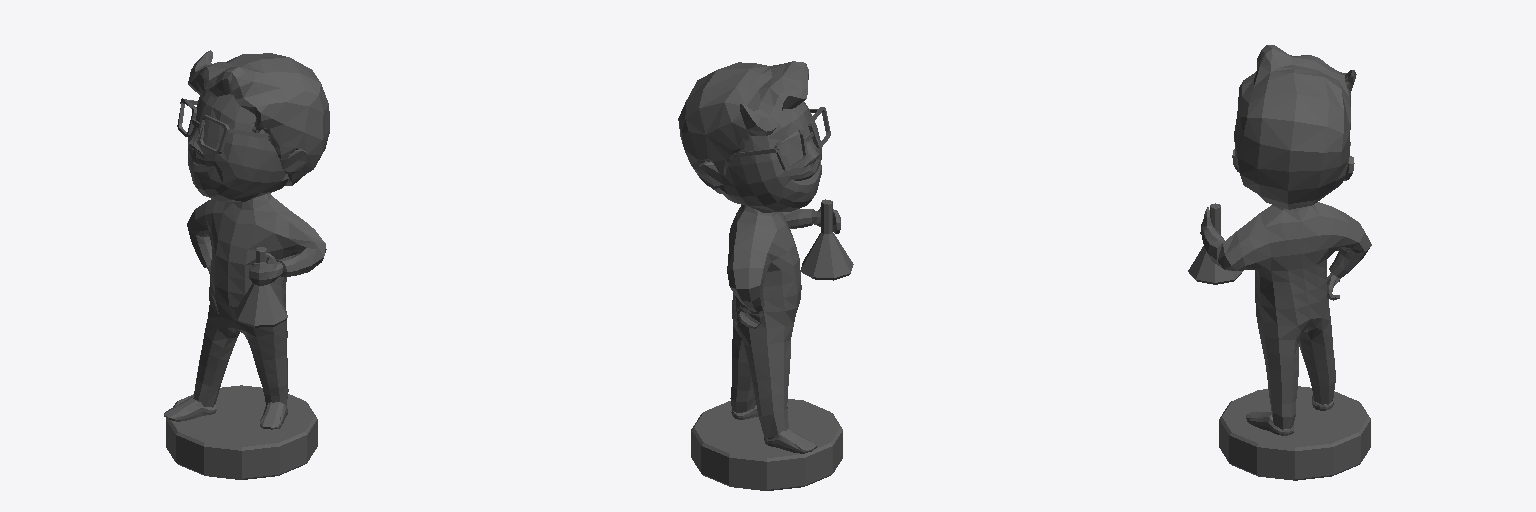
Rendered from Bobble_noUV.obj.
The picture shows the model from 3 angles: view 1: azimuth 30°, elevation 25°; view 2: azimuth 150°, elevation 25°; view 3: azimuth 270°, elevation 25°; orthographic projection.
Parts seen in each view (by area): view 1: Science_Body, Science_Head; view 2: Science_Body, Science_Head; view 3: Science_Body, Science_Head.
Part boxes in pixels (left/top/right/bottom): Science_Body: left=164, top=193, right=326, bottom=479; Science_Head: left=177, top=50, right=329, bottom=201; Science_Body: left=691, top=199, right=853, bottom=490; Science_Head: left=678, top=61, right=830, bottom=212; Science_Body: left=1188, top=202, right=1371, bottom=480; Science_Head: left=1232, top=45, right=1356, bottom=209.
Bounding box in the file's own units: 6.26 × 16.25 × 6.88.